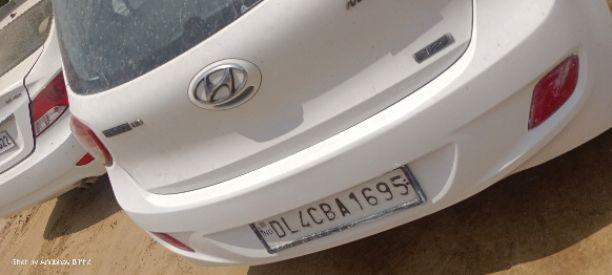license_plate: (55, 0, 611, 265), (248, 163, 426, 253), (0, 129, 16, 156)
